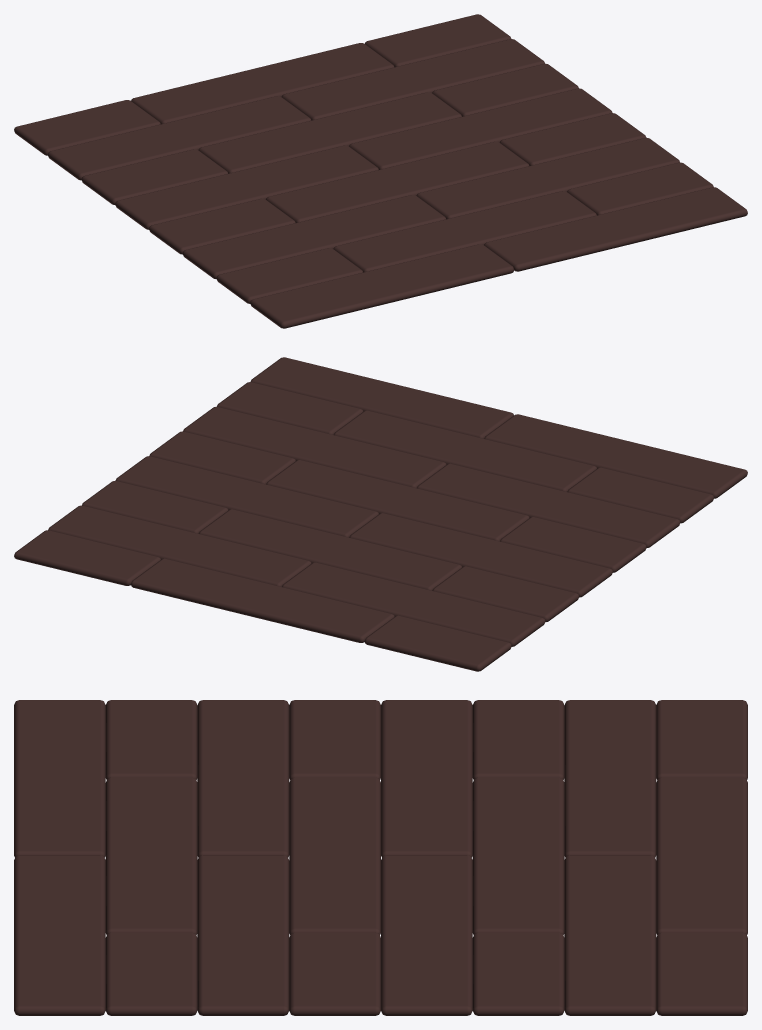
File: woodfloor.fbx
3 renders of one model, top to bottom at view 1: azimuth 30°, elevation 25°; view 2: azimuth 150°, elevation 25°; view 3: azimuth 270°, elevation 25°, orthographic. The views are drawn at different scales.
Parts seen in each view (by area): view 1: floor; view 2: floor; view 3: floor.
Part boxes in pixels (x1,y1,x2,y2): floor: (14,14,747,328); floor: (14,357,747,671); floor: (14,700,747,1015).
Bounding box in the file's own units: 745 × 11.3 × 745.
